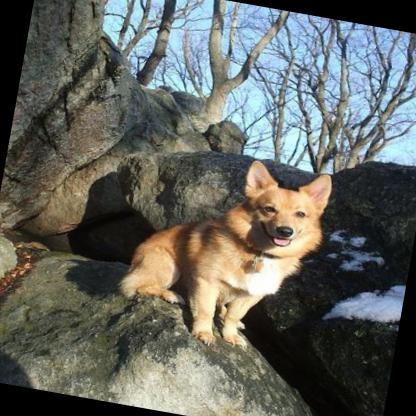Pembroke: (102, 136, 340, 366)
